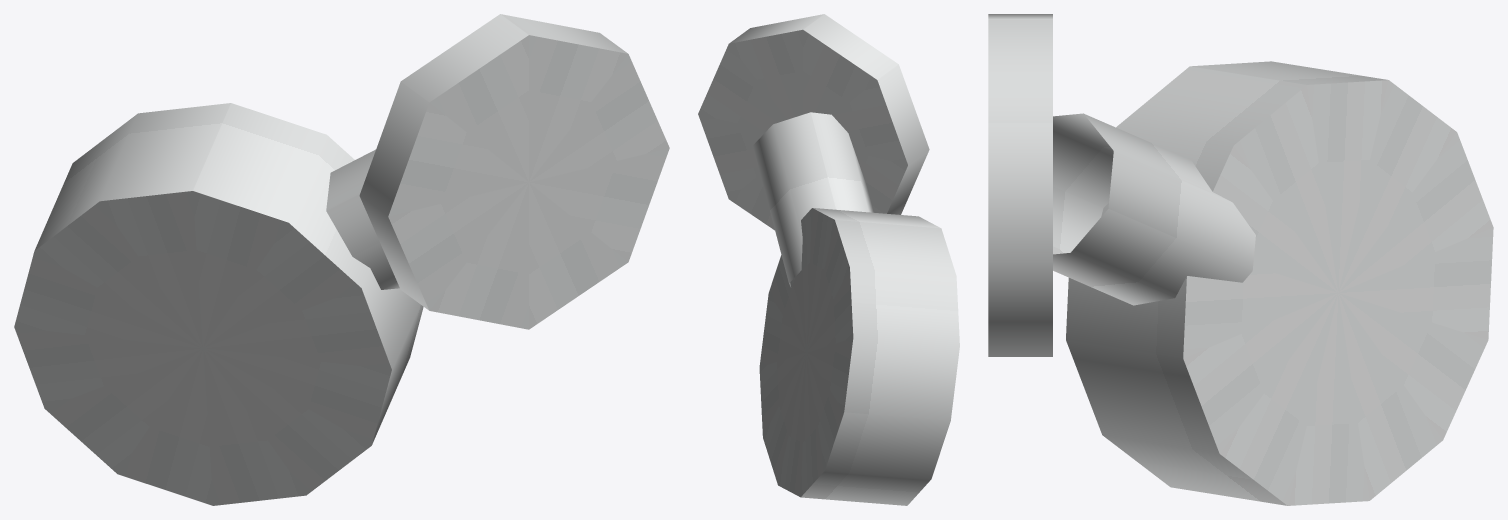
Rendered from nycsignalarm_stub_195.obj.
3 renders of one model, left to right at view 1: azimuth 30°, elevation 25°; view 2: azimuth 150°, elevation 25°; view 3: azimuth 270°, elevation 25°, orthographic. The views are drawn at different scales.
Visible parts, largest first — view 1: nycsignalarm_stub_195; view 2: nycsignalarm_stub_195; view 3: nycsignalarm_stub_195.
Part boxes in pixels (<box>): nycsignalarm_stub_195: <box>14,14,669,505</box>; nycsignalarm_stub_195: <box>698,14,959,505</box>; nycsignalarm_stub_195: <box>988,14,1493,505</box>.
Size of the model in its own units: 0.6001 by 0.6041 by 0.4846.
